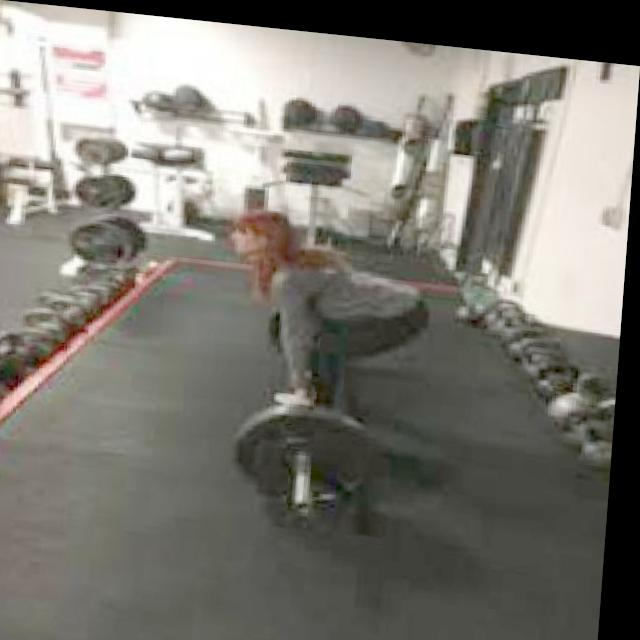barbell: (236, 392, 397, 520)
